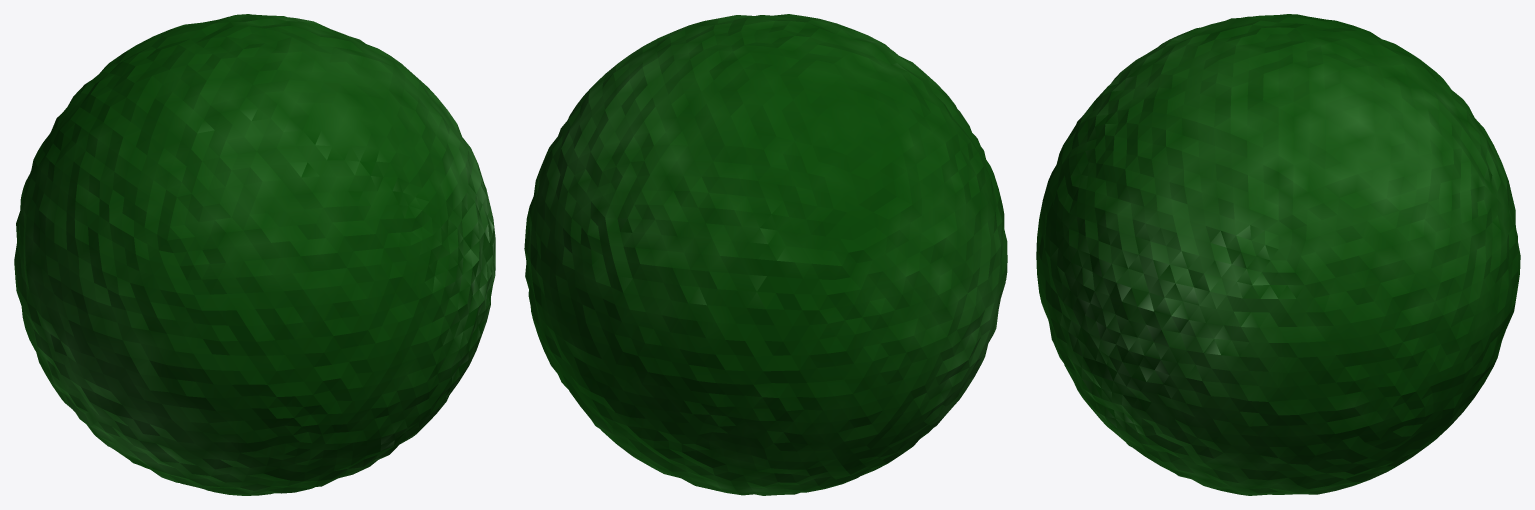
The model's file is skybox_source.fbx.
The picture shows the model from 3 angles, left to right: view 1: azimuth 30°, elevation 25°; view 2: azimuth 150°, elevation 25°; view 3: azimuth 270°, elevation 25°; orthographic projection.
Visible parts, largest first — view 1: Icosphere; view 2: Icosphere; view 3: Icosphere.
Boxes of the visible parts, left/top/right/bottom form: Icosphere: left=14, top=14, right=495, bottom=495; Icosphere: left=524, top=14, right=1007, bottom=495; Icosphere: left=1036, top=14, right=1520, bottom=495.
Bounding box in the file's own units: 200 × 199 × 200.
